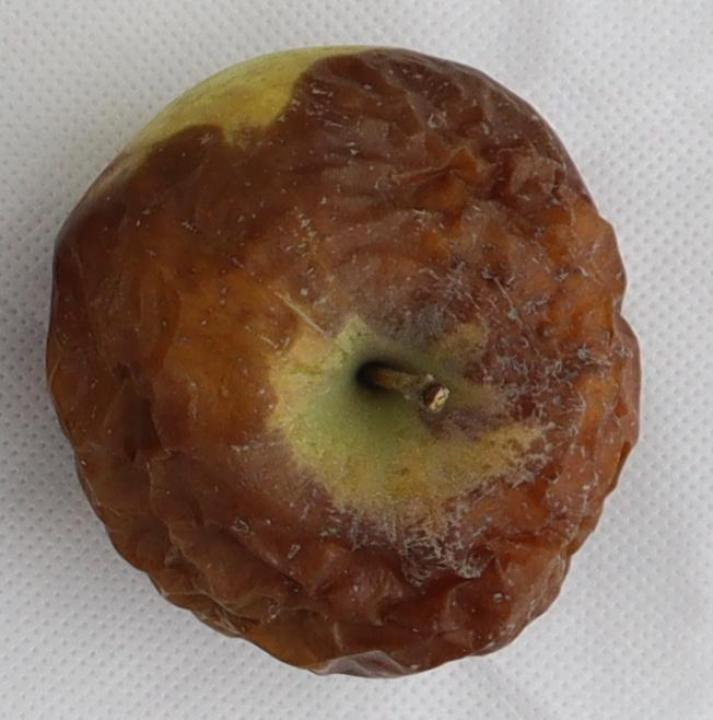apple: (46, 46, 638, 675)
rot_mold_decay: (49, 51, 637, 674)
